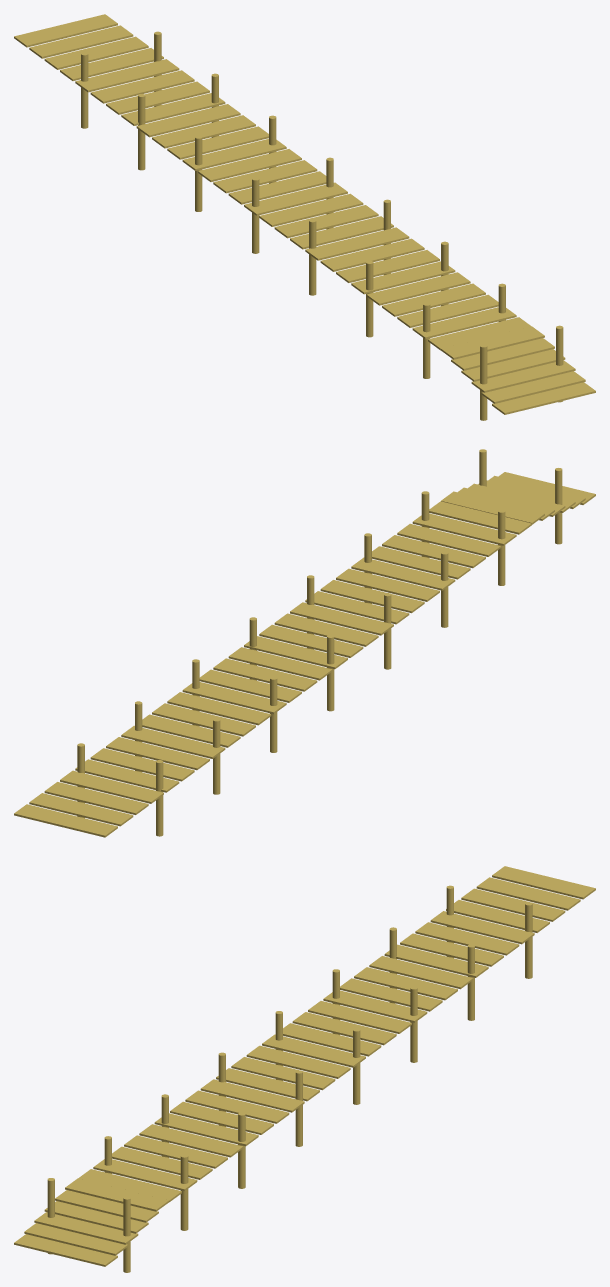
The model's file is uploads_files_2940231_beachbridge.fbx.
The picture shows the model from 3 angles, top to bottom: view 1: azimuth 30°, elevation 25°; view 2: azimuth 150°, elevation 25°; view 3: azimuth 330°, elevation 25°; orthographic projection.
Visible parts, largest first — view 1: Cube, Cube.001, Cylinder.001, Cylinder; view 2: Cube, Cylinder.001, Cube.001, Cylinder; view 3: Cube, Cube.001, Cylinder, Cylinder.001.
Boxes of the visible parts, x1,y1,x2,y2 form: Cube: (14,14,531,350); Cube.001: (441,326,595,414); Cylinder.001: (81,52,487,420); Cylinder: (154,31,563,402); Cube: (14,501,531,837); Cylinder.001: (156,468,562,836); Cube.001: (441,472,595,524); Cylinder: (77,449,486,818); Cube: (78,866,595,1202); Cube.001: (14,1178,168,1266); Cylinder: (123,902,532,1272); Cylinder.001: (47,885,453,1254).
Bounding box in the file's own units: 436 × 335 × 4065.
